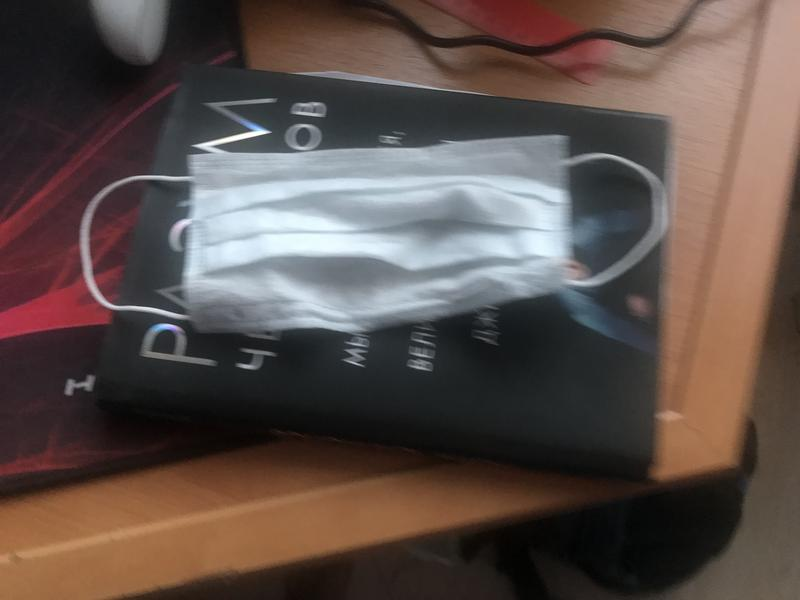medical_mask: (78, 137, 665, 329)
